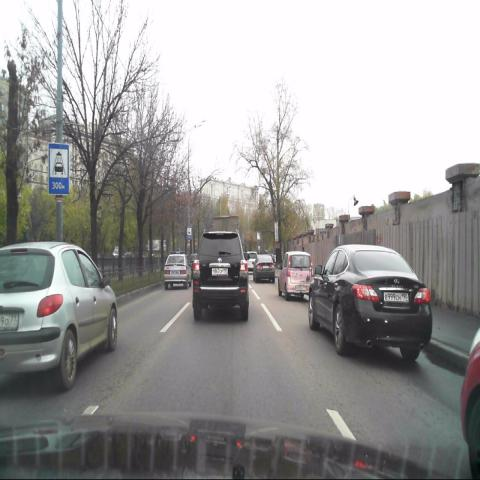7_5: (48, 144, 70, 193)
